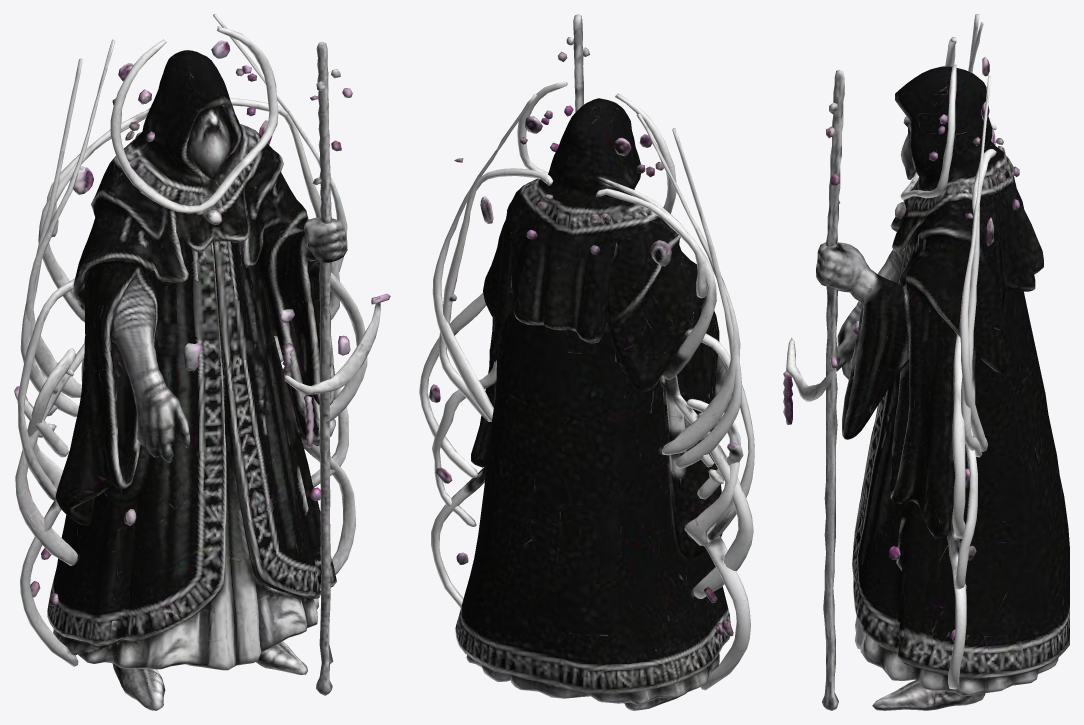
Rendered from Wodan_Sourcerer.glb.
3 views of the same model, side by side, from view 1: azimuth 30°, elevation 25°; view 2: azimuth 150°, elevation 25°; view 3: azimuth 270°, elevation 25° (orthographic). The views are drawn at different scales.
Size of the model in its own units: 1.09 by 1.93 by 0.7828.
1 material, 1 textured.
